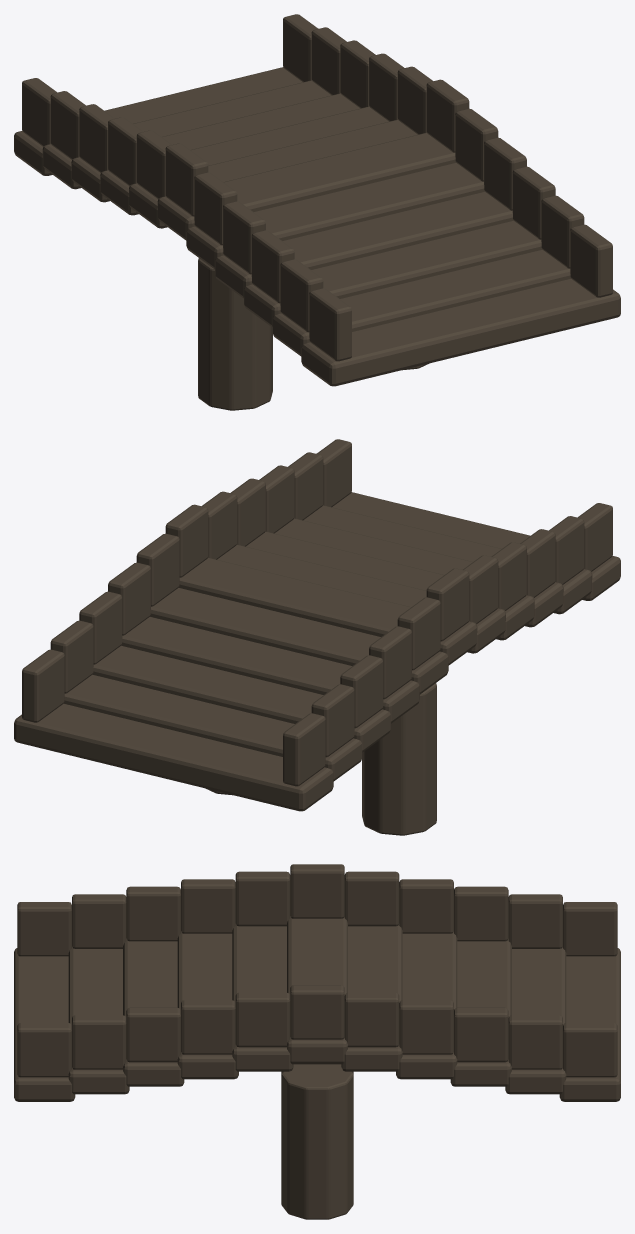
Rendered from stone_bridge.glb.
3 views of the same model, one above another, from view 1: azimuth 30°, elevation 25°; view 2: azimuth 150°, elevation 25°; view 3: azimuth 270°, elevation 25° (orthographic). The views are drawn at different scales.
Visible parts, largest first — view 1: BridgeDeck, BridgeDeck.005, BridgeDeck.001, BridgePier, BridgeDeck.004, BridgeDeck.003, BridgeDeck.002, BridgeDeck.006, BridgeDeck.007, BridgeDeck.008, BridgeDeck.009, BridgeDeck.010 (+22 smaller); view 2: BridgeDeck.010, BridgeDeck.005, BridgeDeck.009, BridgePier, BridgeDeck.006, BridgeDeck.007, BridgeDeck.008, BridgeDeck.004, BridgeDeck.003, BridgeDeck.002, BridgeDeck.001, BridgeDeck (+22 smaller); view 3: BridgePier.001, BridgeDeck.005, BridgeDeck, BridgeDeck.010, BridgeDeck.003, BridgeDeck.007, BridgeDeck.001, BridgeDeck.009, BridgeDeck.004, BridgeDeck.006, BridgeDeck.002, BridgeDeck.008 (+22 smaller).
Part boxes in pixels (<box>): BridgeDeck: <box>301,278,620,386</box>; BridgeDeck.005: <box>157,132,455,240</box>; BridgeDeck.001: <box>272,249,570,356</box>; BridgePier: <box>198,258,272,410</box>; BridgeDeck.004: <box>186,163,484,269</box>; BridgeDeck.003: <box>215,192,513,298</box>; BridgeDeck.002: <box>244,220,542,327</box>; BridgeDeck.006: <box>129,119,417,228</box>; BridgeDeck.007: <box>100,106,388,215</box>; BridgeDeck.008: <box>71,93,360,202</box>; BridgeDeck.009: <box>42,80,331,189</box>; BridgeDeck.010: <box>14,67,302,175</box>; BridgeDeck.010: <box>14,703,333,811</box>; BridgeDeck.005: <box>179,557,477,665</box>; BridgeDeck.009: <box>64,674,362,781</box>; BridgePier: <box>362,683,436,835</box>; BridgeDeck.006: <box>150,588,448,694</box>; BridgeDeck.007: <box>121,617,419,723</box>; BridgeDeck.008: <box>92,645,390,752</box>; BridgeDeck.004: <box>217,544,505,653</box>; BridgeDeck.003: <box>246,531,534,640</box>; BridgeDeck.002: <box>274,518,563,627</box>; BridgeDeck.001: <box>303,505,592,614</box>; BridgeDeck: <box>332,492,620,600</box>; BridgePier.001: <box>281,1064,353,1219</box>; BridgeDeck.005: <box>287,916,347,1064</box>; BridgeDeck: <box>14,948,75,1101</box>; BridgeDeck.010: <box>559,948,620,1101</box>; BridgeDeck.003: <box>177,931,238,1079</box>; BridgeDeck.007: <box>396,931,457,1079</box>; BridgeDeck.001: <box>68,947,129,1094</box>; BridgeDeck.009: <box>505,947,566,1094</box>; BridgeDeck.004: <box>232,924,293,1071</box>; BridgeDeck.006: <box>341,924,402,1071</box>; BridgeDeck.002: <box>123,938,184,1086</box>; BridgeDeck.008: <box>450,938,511,1086</box>.
Size of the model in its own units: 4.8 by 3.99 by 9.12.
